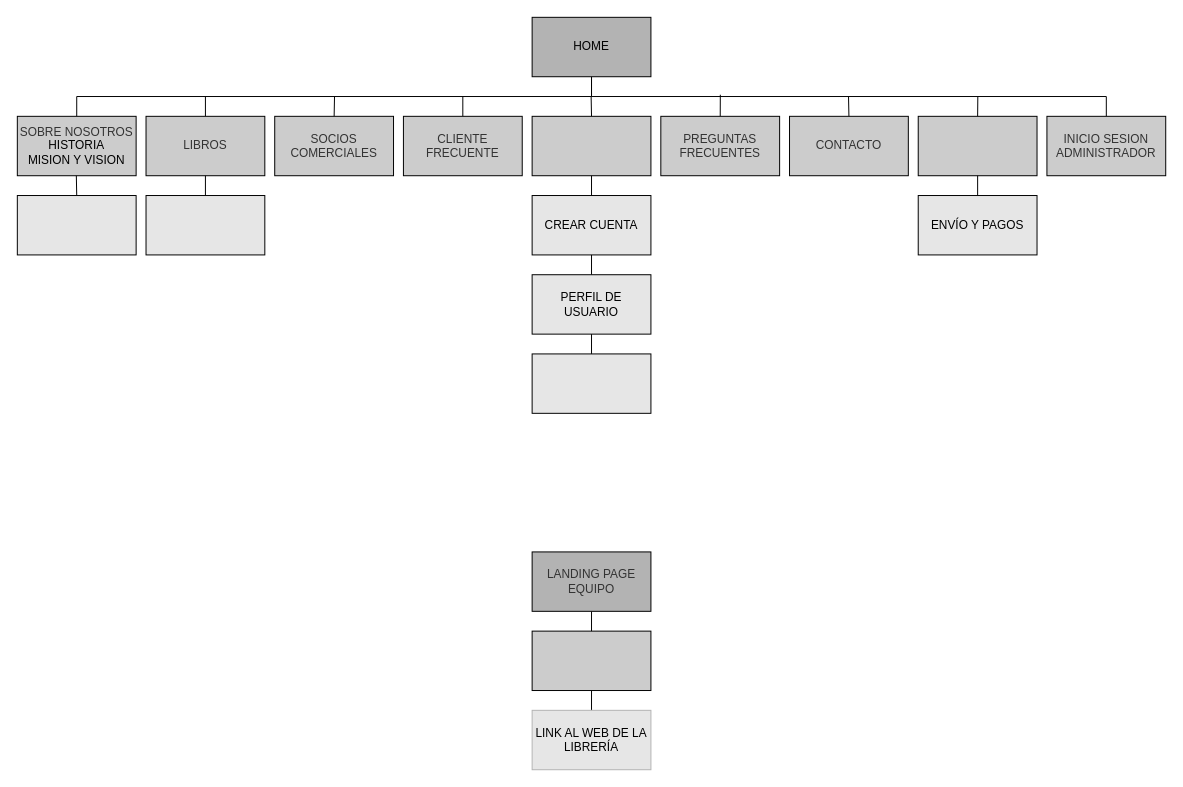
The diagram is 1183 pixels wide and 787 high, and some of its shapes have lost their labels. Each missing label, with the box of its shape:
CARRITO DE COMPRAS: (917, 115, 1037, 176)
INICIAR SESION: (531, 115, 651, 176)
LANDING PAGE PRODUCTO: (531, 630, 651, 691)
MUESTRA DISPLAY DE LIBROS: (145, 195, 265, 255)
POLITICAS: (16, 195, 136, 255)
RECUPERAR CONTRASEÑA: (531, 353, 651, 413)
